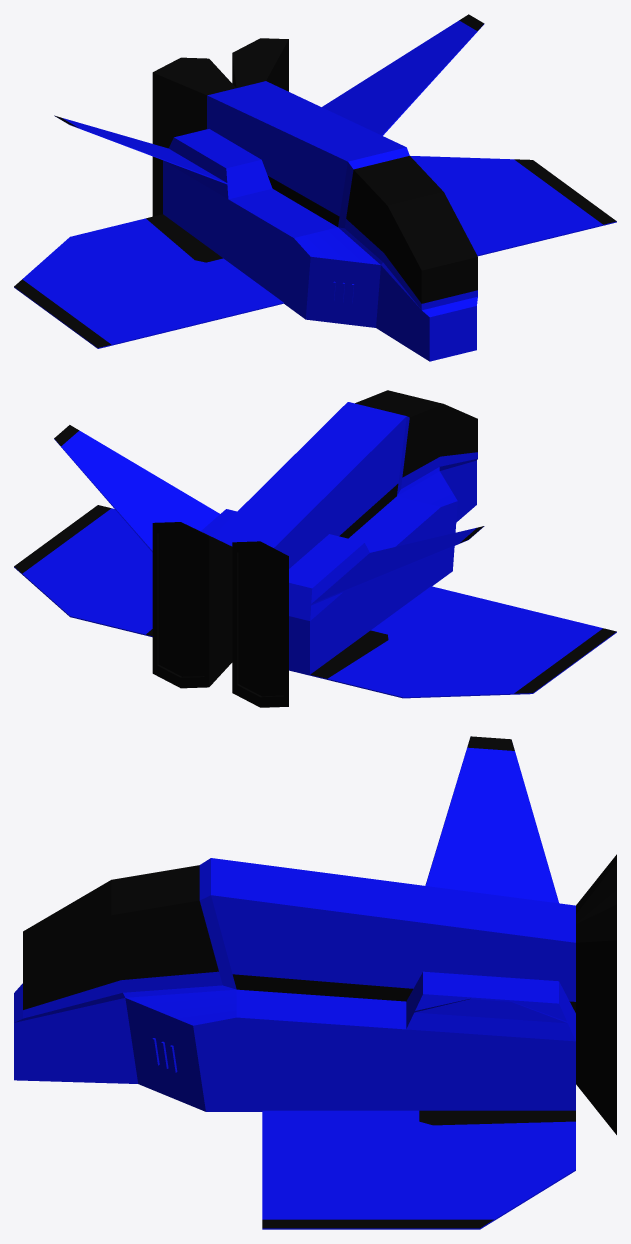
File: Pisces01fbx.fbx
3 views of the same model, one above another, from view 1: azimuth 30°, elevation 25°; view 2: azimuth 150°, elevation 25°; view 3: azimuth 270°, elevation 25° (orthographic). The views are drawn at different scales.
Parts seen in each view (by area): view 1: Cube; view 2: Cube; view 3: Cube.
Part boxes in pixels (x1,y1,x2,y2): Cube: (14,14,616,361); Cube: (14,390,616,707); Cube: (14,736,616,1229).
Size of the model in its own units: 996 by 333 by 773.
